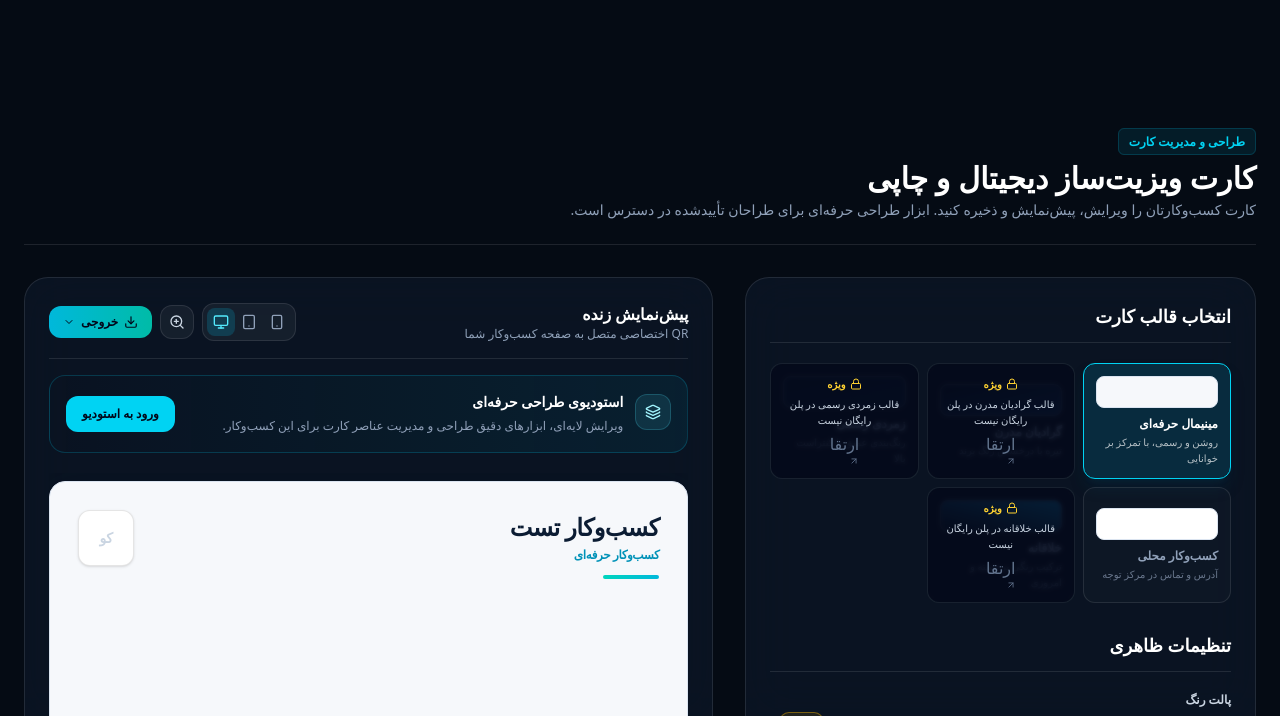
card-maker Studio UI gate › approved designer on the same-business entitlement: clicking opens the full studio
The image size is (1280, 716).
Click the button "ورود به استودیو": coordinates (120, 414) [66, 396, 175, 432]
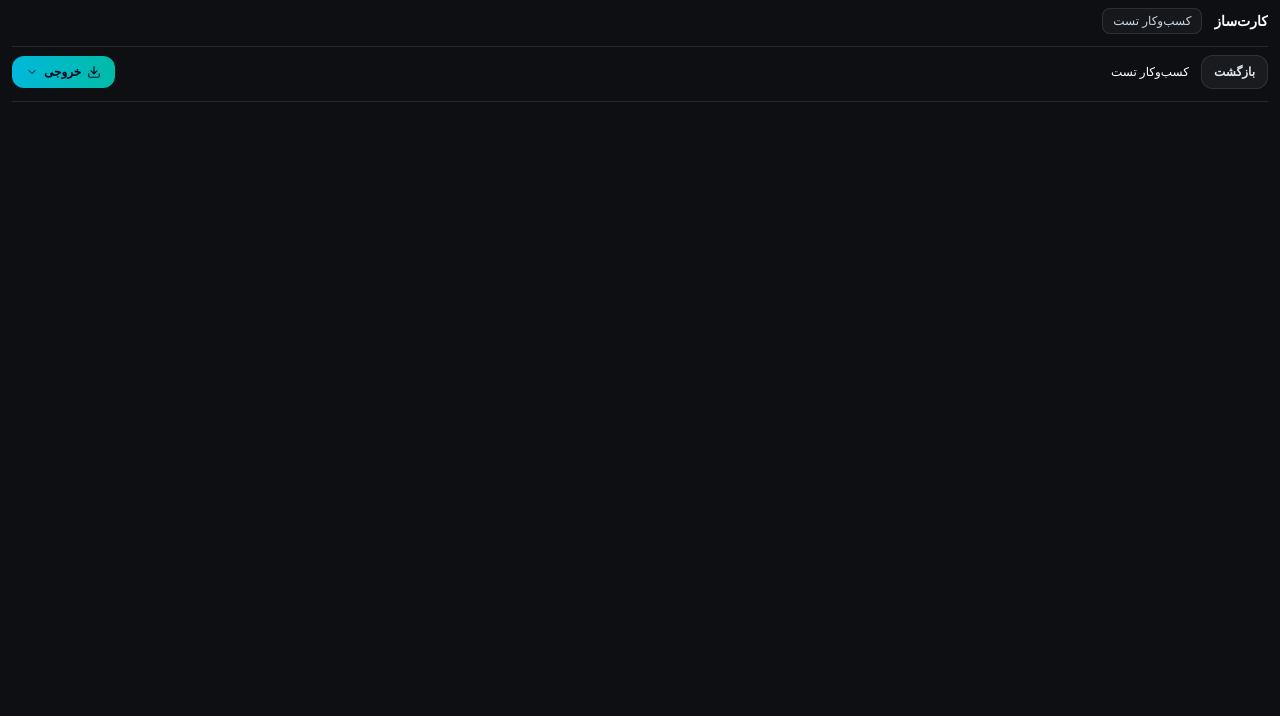
Expected: the heading "کارت‌ساز" is shown, [1214, 11, 1268, 31]
